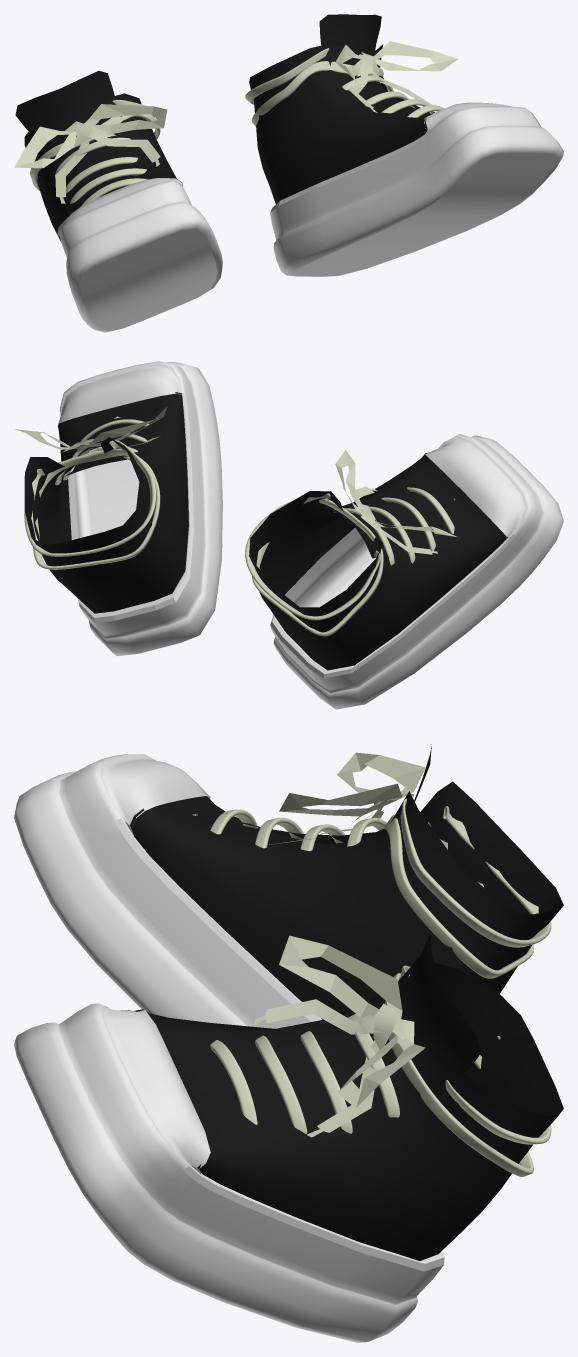
File: Raf_Highs.glb
3 views of the same model, one above another, from view 1: azimuth 30°, elevation 25°; view 2: azimuth 150°, elevation 25°; view 3: azimuth 270°, elevation 25° (orthographic). The views are drawn at different scales.
Visible parts, largest first — view 1: Raf_Highs; view 2: Raf_Highs; view 3: Raf_Highs.
Boxes of the visible parts, x1,y1,x2,y2 form: Raf_Highs: [14, 14, 563, 332]; Raf_Highs: [15, 361, 563, 709]; Raf_Highs: [14, 744, 563, 1342].
Bounding box in the file's own units: 0.7979 × 0.3845 × 0.4714.
